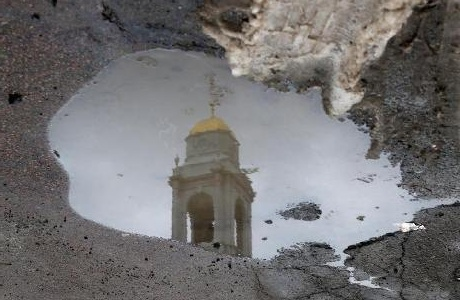pothole: (44, 47, 443, 267)
